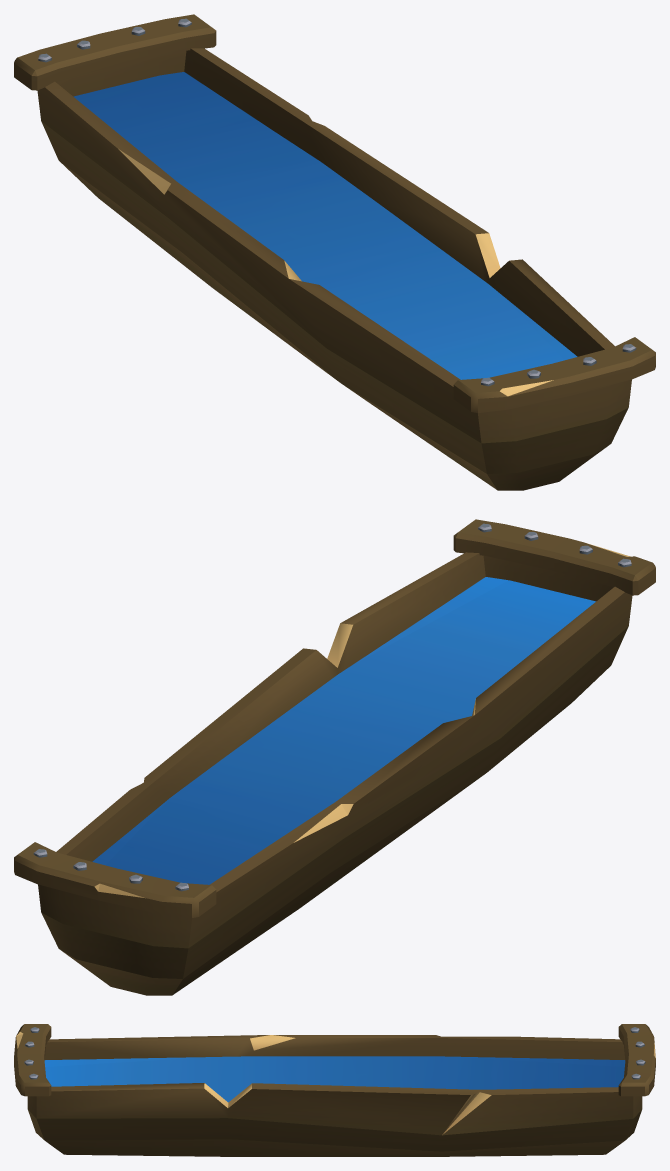
The model's file is Trough_3_D.glb.
3 views of the same model, one above another, from view 1: azimuth 30°, elevation 25°; view 2: azimuth 150°, elevation 25°; view 3: azimuth 270°, elevation 25° (orthographic). The views are drawn at different scales.
Parts seen in each view (by area): view 1: Trough_3_D; view 2: Trough_3_D; view 3: Trough_3_D.
Part boxes in pixels (x1,y1,x2,y2): Trough_3_D: [14, 14, 655, 490]; Trough_3_D: [14, 519, 655, 995]; Trough_3_D: [14, 1024, 655, 1156].
Size of the model in its own units: 0.7368 by 0.509 by 3.25.
Materials: 2 (2 with a texture image).
